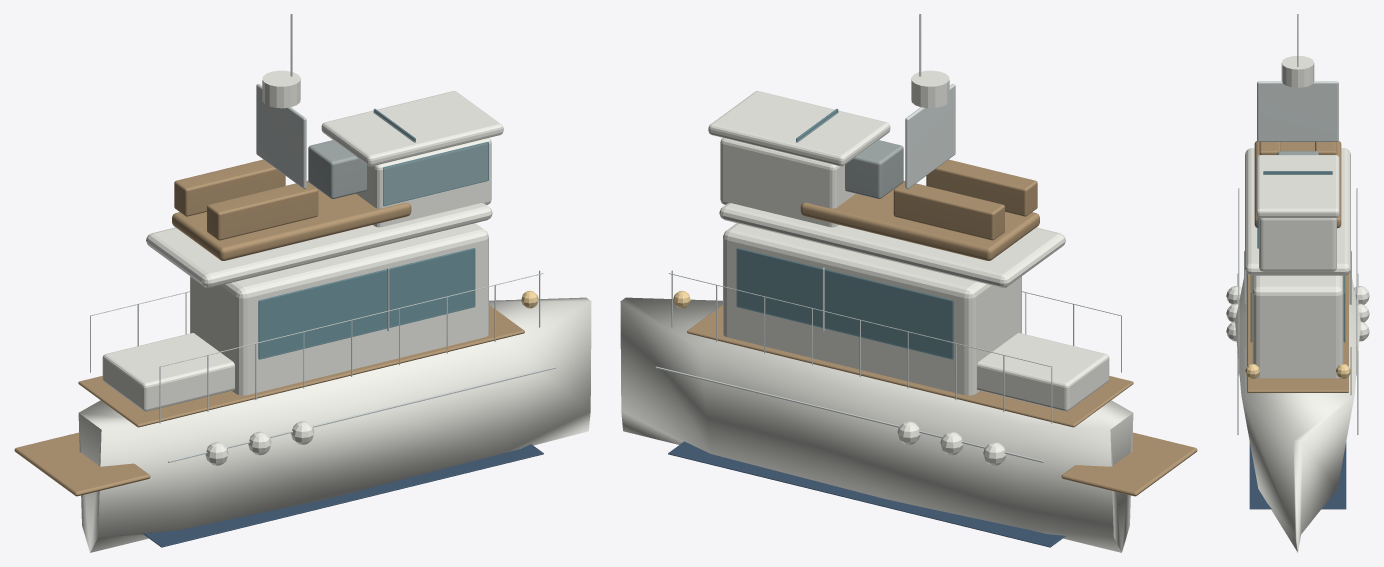
The picture shows the model from 3 angles, left to right: view 1: azimuth 30°, elevation 25°; view 2: azimuth 150°, elevation 25°; view 3: azimuth 270°, elevation 25°; orthographic projection. The views are drawn at different scales.
Visible parts, largest first — view 1: yacht ceramic gelcoat, yacht weathered deck teak, yacht continuous smoked bridge glazing, yacht polished stainless rail, deep navy waterline, upper console; view 2: yacht ceramic gelcoat, yacht weathered deck teak, yacht continuous smoked bridge glazing, yacht polished stainless rail, deep navy waterline, upper console; view 3: yacht ceramic gelcoat, yacht polished stainless rail, yacht weathered deck teak, deep navy waterline, yacht continuous smoked bridge glazing, yacht navigation light.
Part boxes in pixels (<box>): yacht ceramic gelcoat: <box>78,70,591,552</box>; yacht weathered deck teak: <box>14,159,524,496</box>; yacht continuous smoked bridge glazing: <box>258,108,488,359</box>; yacht polished stainless rail: <box>90,14,556,462</box>; deep navy waterline: <box>143,444,543,547</box>; upper console: <box>308,140,366,198</box>; yacht ceramic gelcoat: <box>620,70,1133,552</box>; yacht weathered deck teak: <box>687,159,1197,496</box>; yacht continuous smoked bridge glazing: <box>736,108,953,359</box>; yacht polished stainless rail: <box>655,14,1121,462</box>; deep navy waterline: <box>668,441,1065,547</box>; upper console: <box>845,140,903,198</box>; yacht ceramic gelcoat: <box>1226,56,1369,552</box>; yacht polished stainless rail: <box>1237,14,1358,434</box>; yacht weathered deck teak: <box>1247,141,1348,392</box>; deep navy waterline: <box>1249,442,1346,509</box>; yacht continuous smoked bridge glazing: <box>1250,171,1345,342</box>; yacht navigation light: <box>1245,364,1350,378</box>.
Size of the model in its own units: 23.76 by 20.42 by 6.4.
